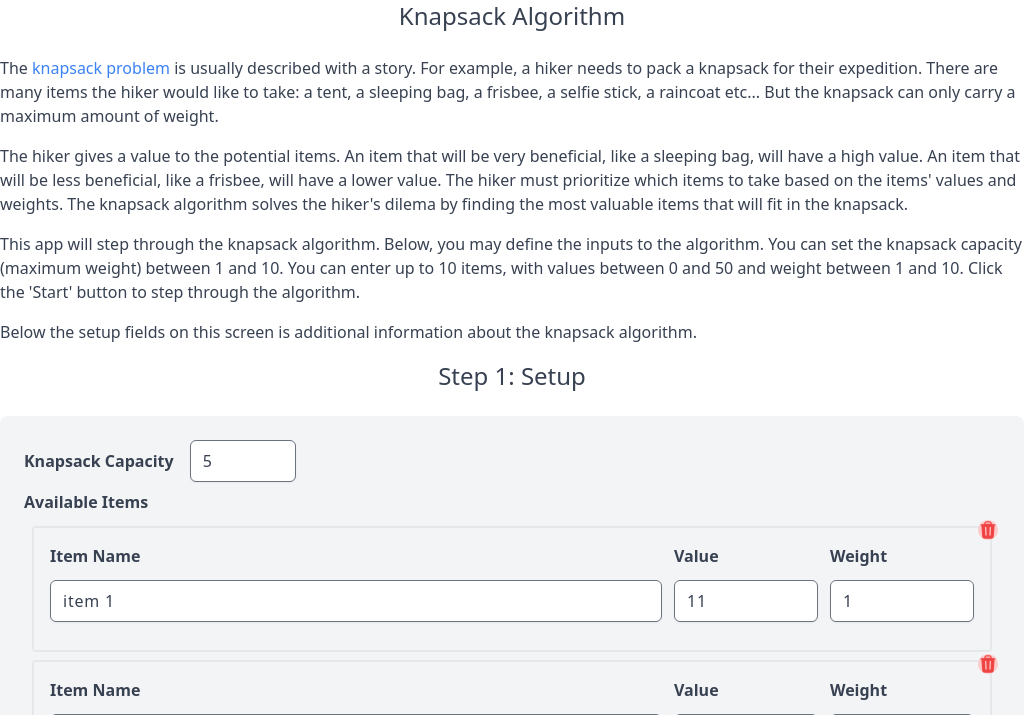
Test: test the setup screen › should disable the start button if all items are deleted
Click the button named "Delete item item 1": point(988, 530) 978,520 -> 998,540
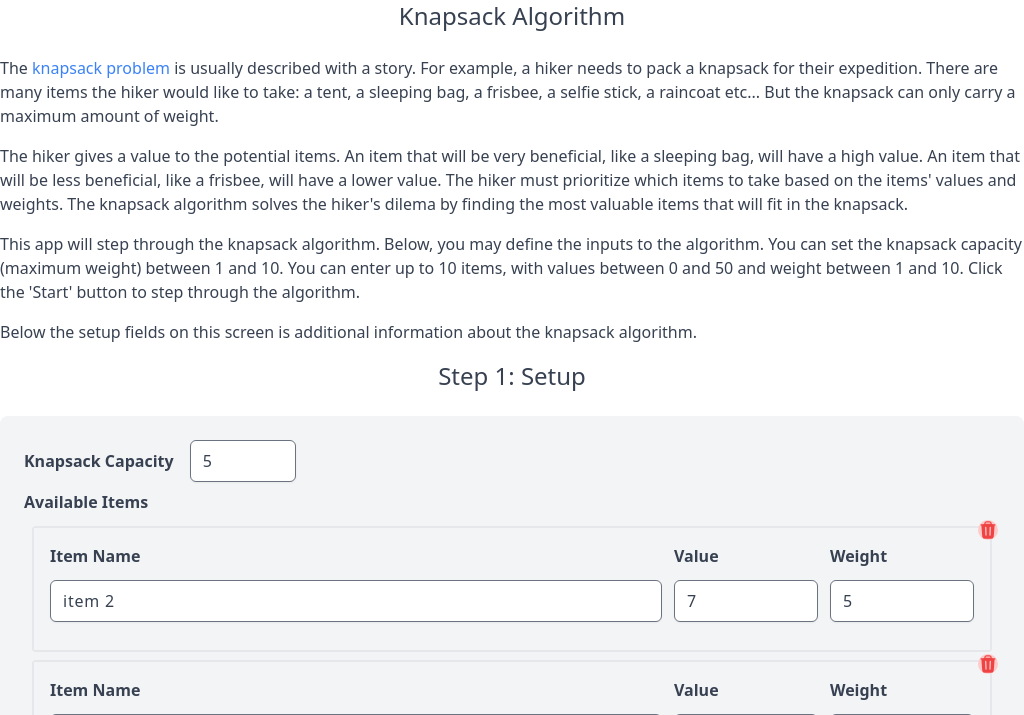
Click the button named "Delete item item 2": point(988, 530) 978,520 -> 998,540
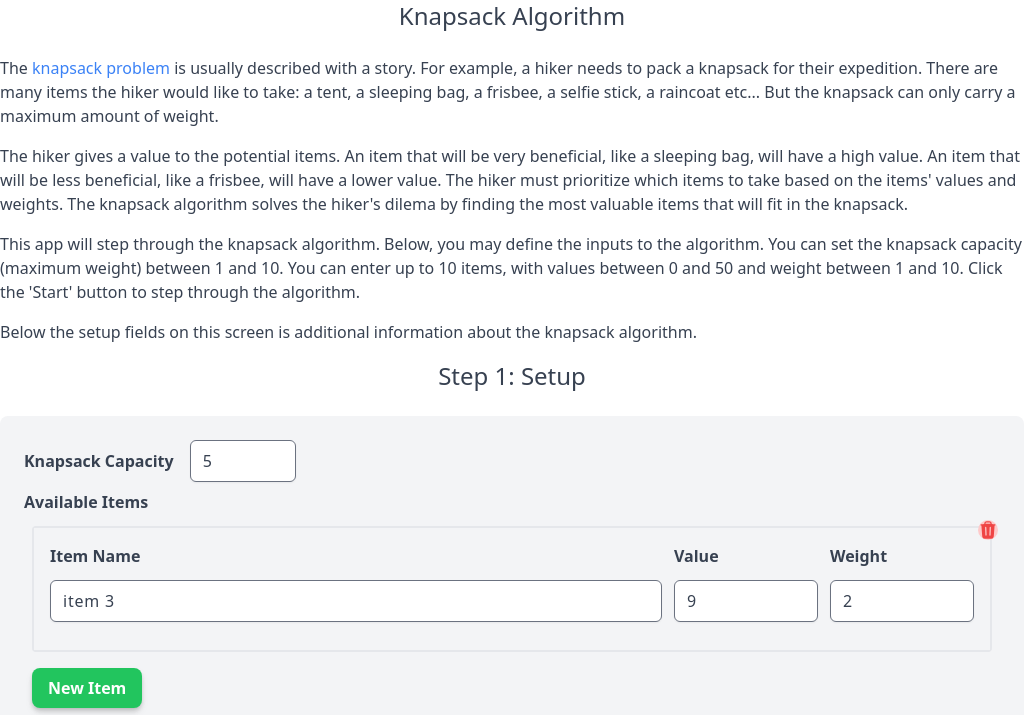
Click the button named "Delete item item 3": point(988, 530) 978,520 -> 998,540
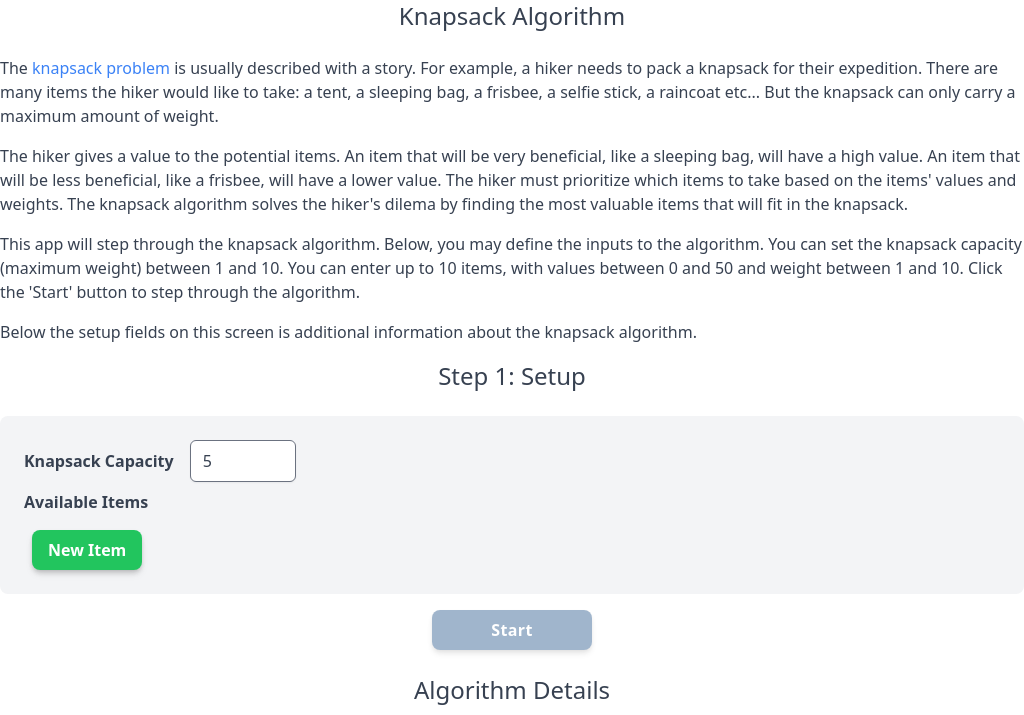
Result: the button "Start" is disabled at 432,610 -> 592,650
